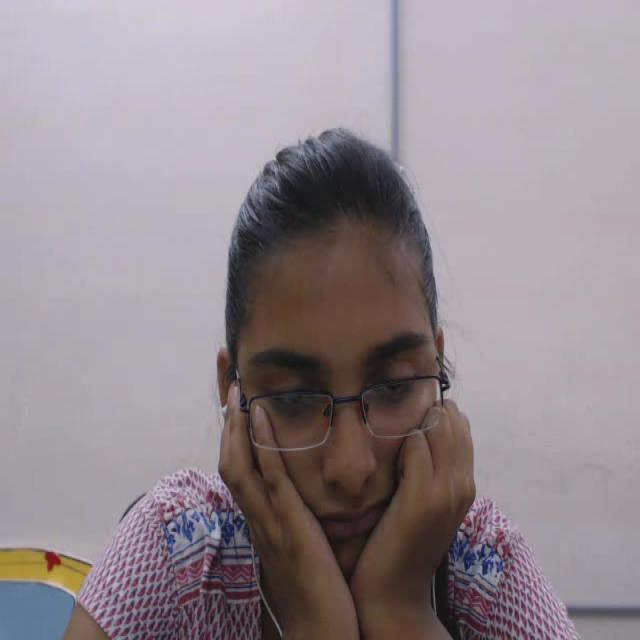Bored: (171, 64, 495, 606)
